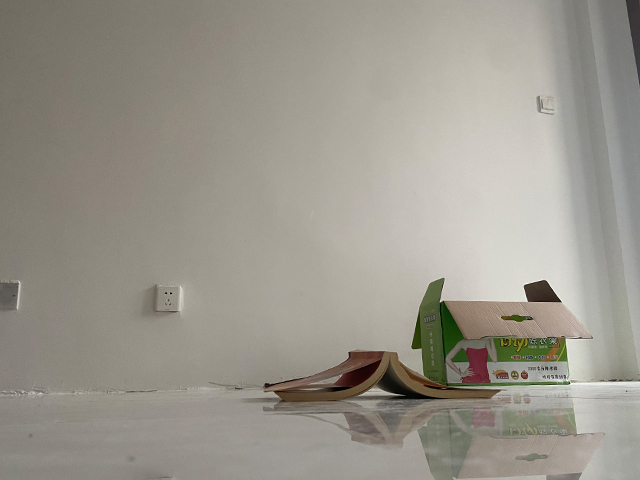book: (261, 349, 507, 404)
